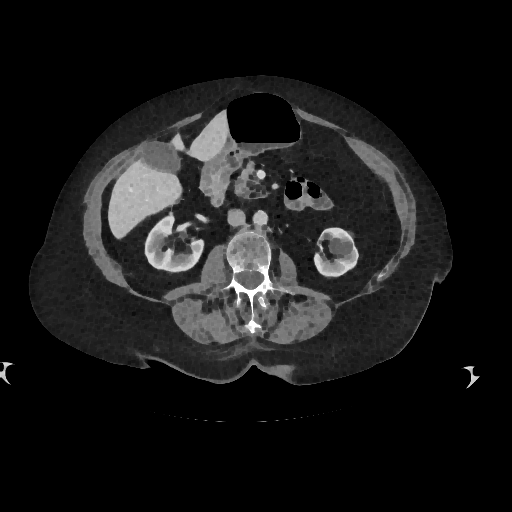Lesion: (324, 228, 355, 266)
